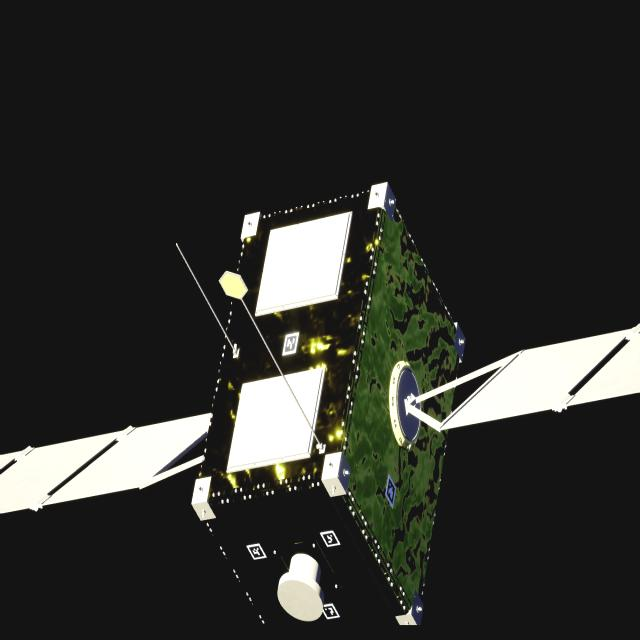satellite: (0, 183, 640, 640)
